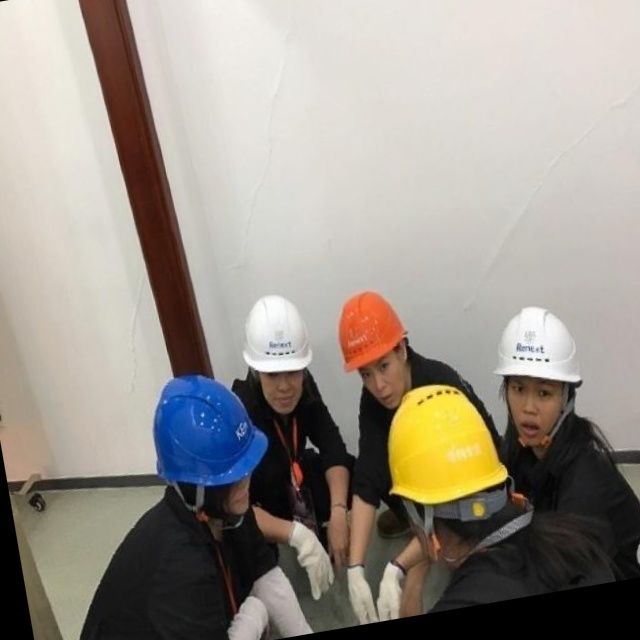Con_Casco: (239, 286, 322, 406)
